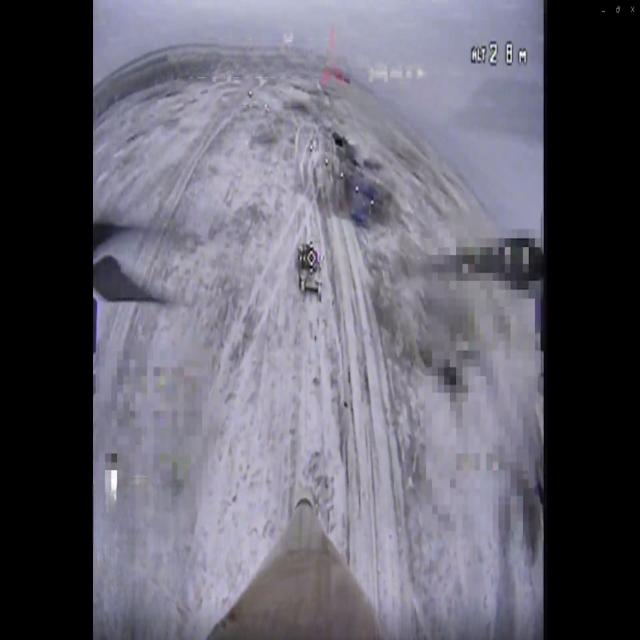MBT: (296, 243, 325, 293)
